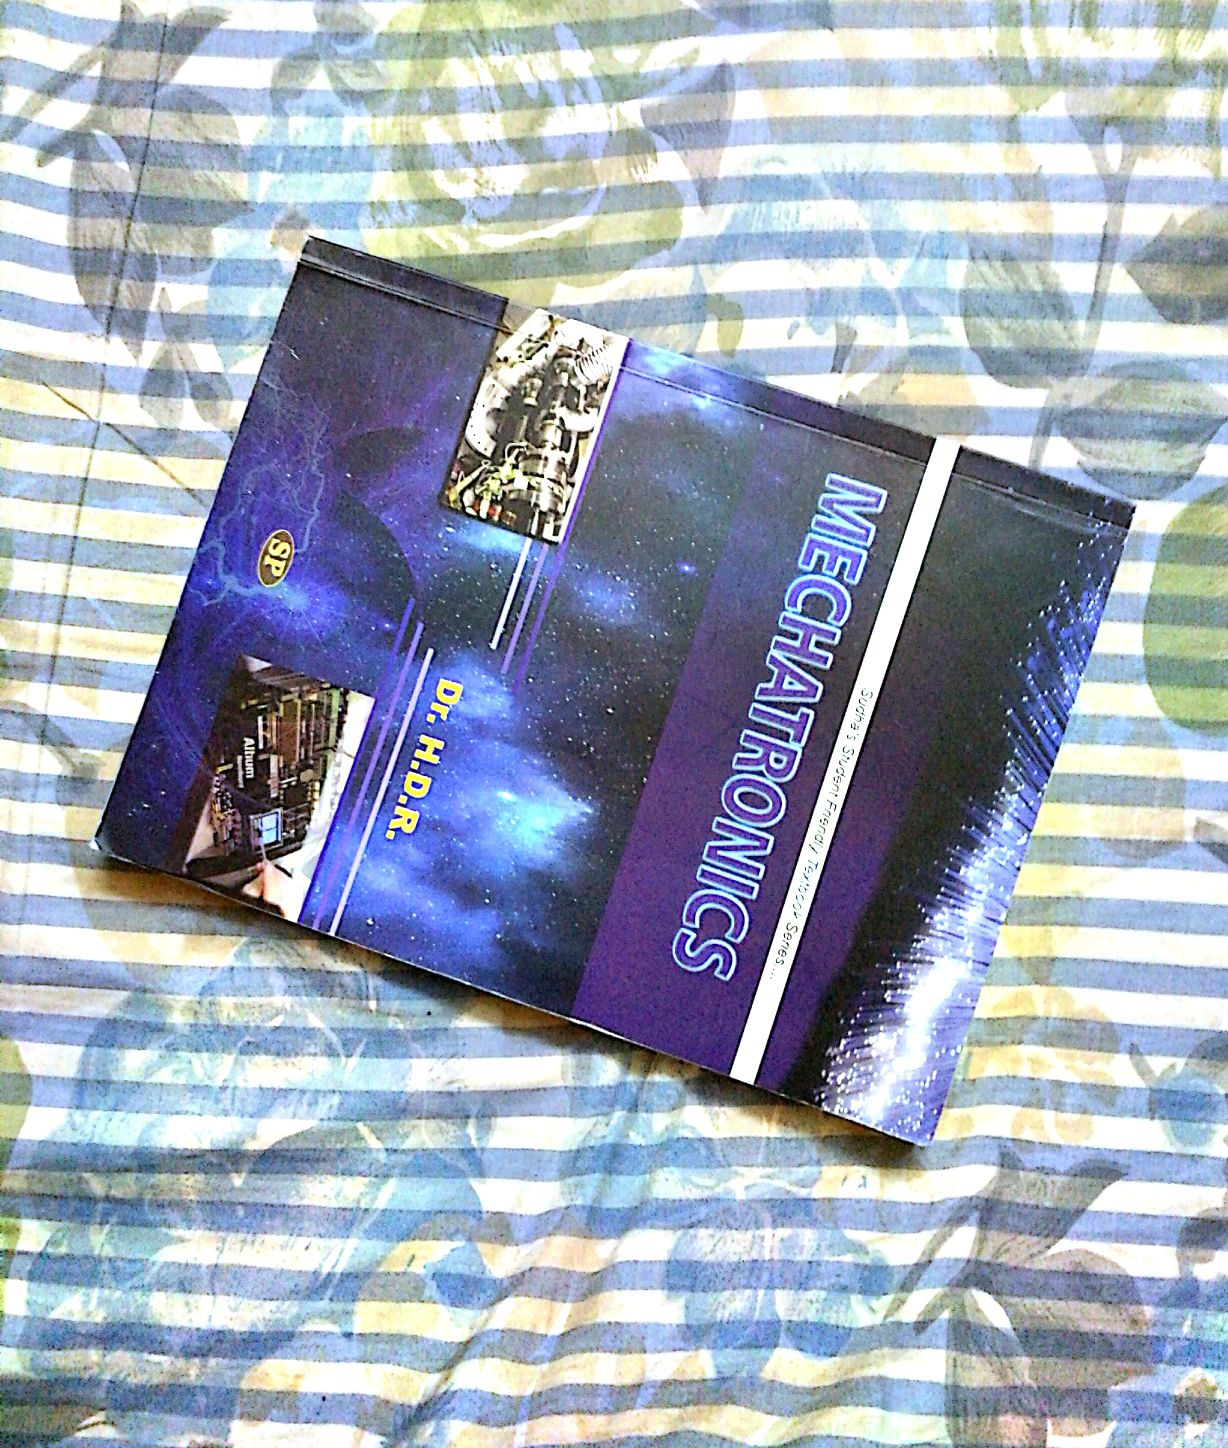mechatronics: (104, 236, 1205, 1167)
